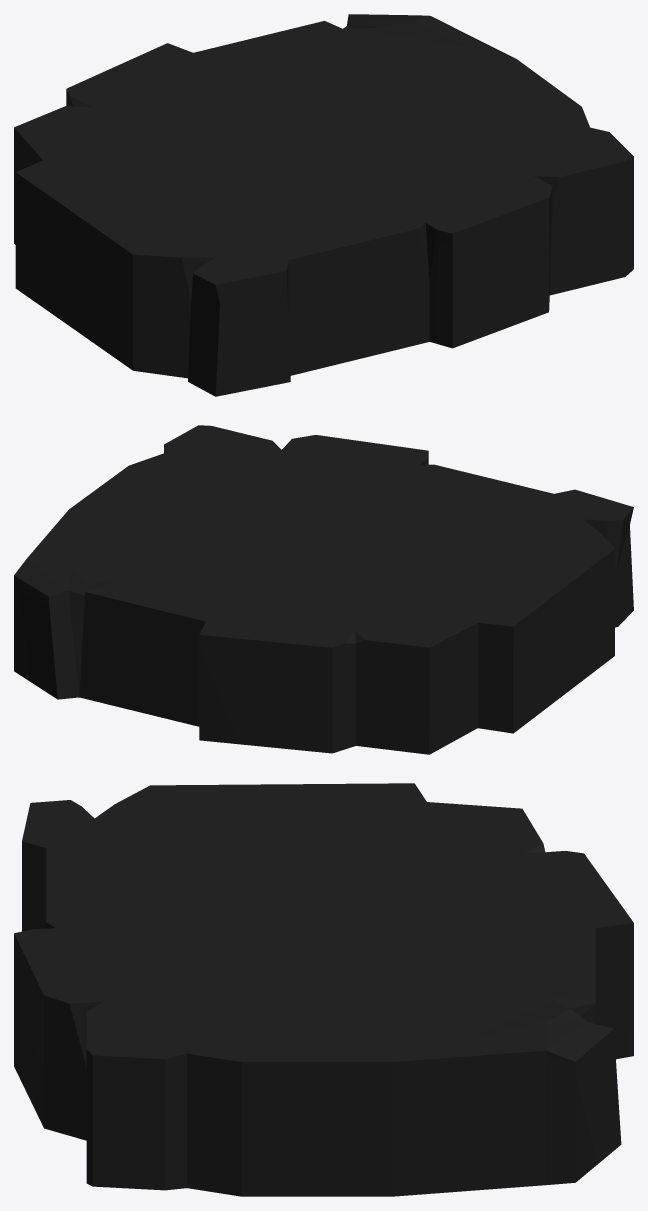
Rendered from black_rock_terrain.fbx.
The picture shows the model from 3 angles, top to bottom: view 1: azimuth 30°, elevation 25°; view 2: azimuth 150°, elevation 25°; view 3: azimuth 270°, elevation 25°; orthographic projection. The views are drawn at different scales.
Visible parts, largest first — view 1: RockFlat_01; view 2: RockFlat_01; view 3: RockFlat_01.
Part boxes in pixels (bbox=[...]): RockFlat_01: bbox=[14, 14, 633, 396]; RockFlat_01: bbox=[14, 425, 633, 754]; RockFlat_01: bbox=[14, 783, 633, 1196].
Bounding box in the file's own units: 9598 × 2167 × 9018.
